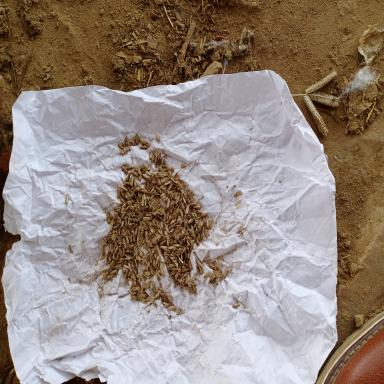pbw: (155, 270, 164, 280), (121, 234, 127, 248), (182, 286, 194, 293), (158, 263, 165, 275), (138, 292, 148, 300), (208, 273, 216, 283), (142, 269, 152, 277), (192, 206, 198, 219), (136, 236, 143, 247), (128, 186, 136, 195), (120, 191, 128, 200), (137, 134, 145, 143), (134, 258, 140, 270), (164, 210, 170, 222), (183, 254, 188, 268), (154, 290, 161, 300), (177, 255, 184, 265), (195, 265, 202, 275), (183, 278, 193, 285), (195, 258, 202, 268), (193, 219, 200, 229), (198, 220, 205, 230), (162, 257, 172, 264), (166, 292, 172, 303), (149, 193, 155, 204), (173, 208, 179, 219), (132, 177, 138, 188), (156, 254, 161, 267), (137, 225, 142, 238), (173, 199, 178, 212), (142, 173, 150, 181), (160, 239, 168, 247), (169, 217, 176, 226), (145, 245, 152, 254), (102, 269, 109, 278), (172, 191, 179, 200), (156, 222, 165, 229), (190, 210, 196, 220), (167, 305, 177, 311), (176, 216, 182, 226), (122, 136, 128, 146), (149, 280, 155, 290), (110, 260, 116, 270), (209, 216, 214, 228), (124, 226, 130, 236), (150, 152, 155, 164), (188, 280, 198, 286), (168, 188, 176, 195), (169, 200, 176, 208), (157, 172, 164, 180), (129, 138, 137, 145), (166, 164, 174, 171), (115, 262, 123, 269), (150, 207, 158, 214), (121, 164, 128, 172), (126, 275, 134, 282), (216, 268, 220, 282), (171, 258, 178, 266), (188, 216, 195, 224), (146, 240, 153, 248), (208, 262, 216, 269), (115, 214, 122, 222), (114, 207, 122, 214), (119, 252, 124, 263), (173, 272, 178, 283), (110, 243, 115, 254), (130, 175, 135, 186), (219, 272, 224, 283), (166, 197, 171, 208), (124, 199, 133, 205), (124, 236, 130, 245), (120, 227, 126, 236), (166, 168, 172, 177), (131, 270, 137, 279), (149, 250, 155, 259), (144, 231, 150, 240), (159, 170, 168, 176), (156, 178, 162, 187), (133, 212, 142, 218), (106, 273, 112, 282), (140, 225, 149, 231), (110, 218, 114, 231), (201, 225, 205, 238), (166, 184, 171, 194), (152, 260, 157, 270), (165, 222, 170, 232), (149, 266, 154, 276), (115, 249, 120, 259), (146, 258, 151, 268), (121, 218, 126, 228), (135, 166, 140, 176), (131, 282, 138, 289), (108, 253, 115, 260), (176, 277, 183, 284), (155, 186, 162, 193), (122, 206, 129, 213), (176, 181, 183, 188), (144, 254, 151, 261), (125, 191, 132, 198), (110, 269, 117, 276), (156, 216, 164, 222), (184, 238, 190, 246), (232, 302, 240, 308), (159, 185, 167, 191), (154, 133, 160, 141), (113, 224, 121, 230), (170, 175, 176, 183), (132, 242, 138, 250), (142, 266, 150, 272), (144, 202, 150, 210), (104, 253, 108, 265), (157, 228, 163, 236), (101, 246, 105, 258), (180, 246, 186, 254), (100, 237, 106, 245), (142, 193, 146, 205), (150, 185, 156, 193), (124, 254, 132, 260), (158, 208, 164, 216), (174, 242, 182, 248), (124, 146, 130, 154), (163, 180, 171, 186), (128, 168, 134, 176), (142, 299, 148, 307), (131, 296, 139, 302), (114, 240, 120, 248), (157, 151, 162, 160), (183, 220, 188, 229), (181, 228, 186, 237), (154, 173, 159, 182), (175, 248, 180, 257), (175, 225, 184, 230), (111, 234, 116, 243), (204, 230, 209, 239), (185, 204, 190, 213), (138, 171, 143, 180), (112, 229, 121, 234), (122, 245, 126, 256), (206, 217, 210, 228), (195, 235, 199, 246), (134, 225, 138, 236), (135, 132, 138, 146), (115, 233, 122, 239), (171, 266, 178, 272), (134, 186, 141, 192), (170, 271, 177, 277), (144, 170, 151, 176), (126, 218, 132, 225), (122, 263, 129, 269), (160, 292, 167, 298), (185, 212, 191, 219), (159, 204, 165, 211), (143, 141, 150, 147), (136, 274, 143, 280), (142, 206, 148, 213), (140, 219, 147, 225), (178, 195, 182, 205), (170, 232, 178, 237), (167, 236, 171, 246), (122, 212, 127, 220), (162, 192, 166, 202), (140, 285, 144, 295), (178, 268, 182, 278), (150, 170, 154, 180), (138, 199, 142, 209), (182, 267, 190, 272), (162, 302, 172, 306), (188, 202, 198, 206), (143, 216, 151, 221), (168, 245, 176, 250), (133, 286, 141, 291), (128, 205, 136, 210), (140, 145, 148, 150), (112, 205, 122, 209), (116, 187, 120, 197), (169, 227, 174, 235), (180, 209, 184, 219), (192, 204, 202, 208), (189, 228, 194, 236), (132, 200, 140, 205), (186, 249, 191, 257), (197, 232, 202, 240), (119, 239, 122, 252), (160, 191, 166, 197), (183, 196, 187, 205), (106, 211, 109, 223), (146, 192, 150, 201), (176, 309, 182, 315), (190, 242, 194, 251), (162, 177, 168, 183), (174, 186, 180, 192), (138, 165, 144, 171), (145, 165, 151, 171), (143, 282, 149, 288), (149, 202, 155, 208), (163, 213, 167, 222), (125, 268, 129, 277), (118, 143, 124, 149), (128, 216, 137, 220), (188, 258, 191, 270), (204, 272, 210, 278), (151, 178, 155, 187), (201, 212, 208, 217), (120, 186, 127, 191), (194, 227, 199, 234), (183, 272, 190, 277), (150, 221, 157, 226), (132, 171, 139, 176), (120, 148, 125, 155), (132, 220, 139, 225), (170, 251, 175, 258), (167, 265, 174, 270), (195, 208, 202, 213), (106, 236, 111, 243), (133, 192, 138, 199), (147, 296, 154, 301), (138, 249, 143, 256), (130, 231, 133, 242), (164, 230, 168, 238), (132, 210, 140, 214), (128, 250, 132, 258), (222, 270, 226, 278), (108, 215, 112, 223), (146, 181, 150, 189), (144, 212, 152, 216), (106, 257, 110, 265), (140, 188, 148, 192), (126, 225, 134, 229), (150, 225, 154, 233), (198, 218, 201, 228), (125, 172, 130, 178), (154, 154, 157, 164), (130, 291, 136, 296), (124, 181, 130, 186), (190, 236, 195, 242), (162, 245, 168, 250), (178, 229, 181, 239), (160, 162, 165, 168), (127, 212, 134, 216), (126, 166, 133, 170), (127, 270, 131, 277), (180, 163, 187, 167), (156, 203, 160, 210), (159, 163, 162, 172), (187, 193, 190, 202), (133, 232, 136, 241), (181, 188, 184, 197), (175, 174, 180, 179), (184, 192, 188, 198), (171, 239, 177, 243), (122, 203, 128, 207), (178, 240, 184, 244), (171, 184, 177, 188), (133, 252, 137, 258), (163, 250, 166, 258), (188, 189, 192, 195), (150, 151, 153, 159), (189, 196, 193, 202), (182, 184, 186, 190), (158, 194, 161, 202), (125, 178, 131, 182), (109, 232, 113, 238), (144, 258, 148, 264), (179, 203, 182, 210), (126, 244, 133, 247), (186, 229, 189, 236), (138, 192, 141, 199), (158, 159, 165, 162), (152, 216, 157, 220), (165, 252, 170, 256), (176, 178, 182, 181), (190, 194, 194, 198), (189, 191, 194, 194), (181, 180, 185, 183), (188, 224, 192, 227)
